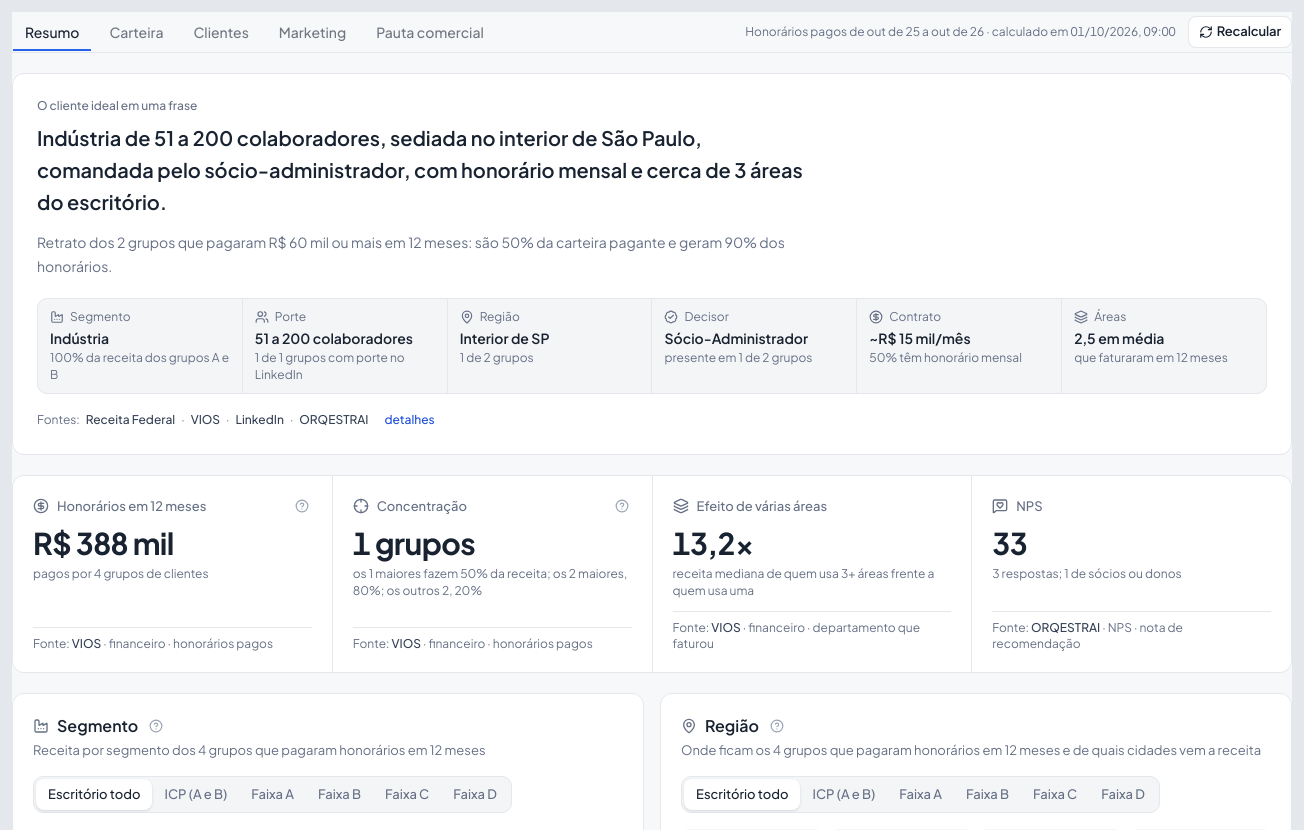
Scenario: mostra o erro devolvido pela API ao recalcular
Click the button "Recalcular": (1240, 32) [1188, 16, 1292, 48]
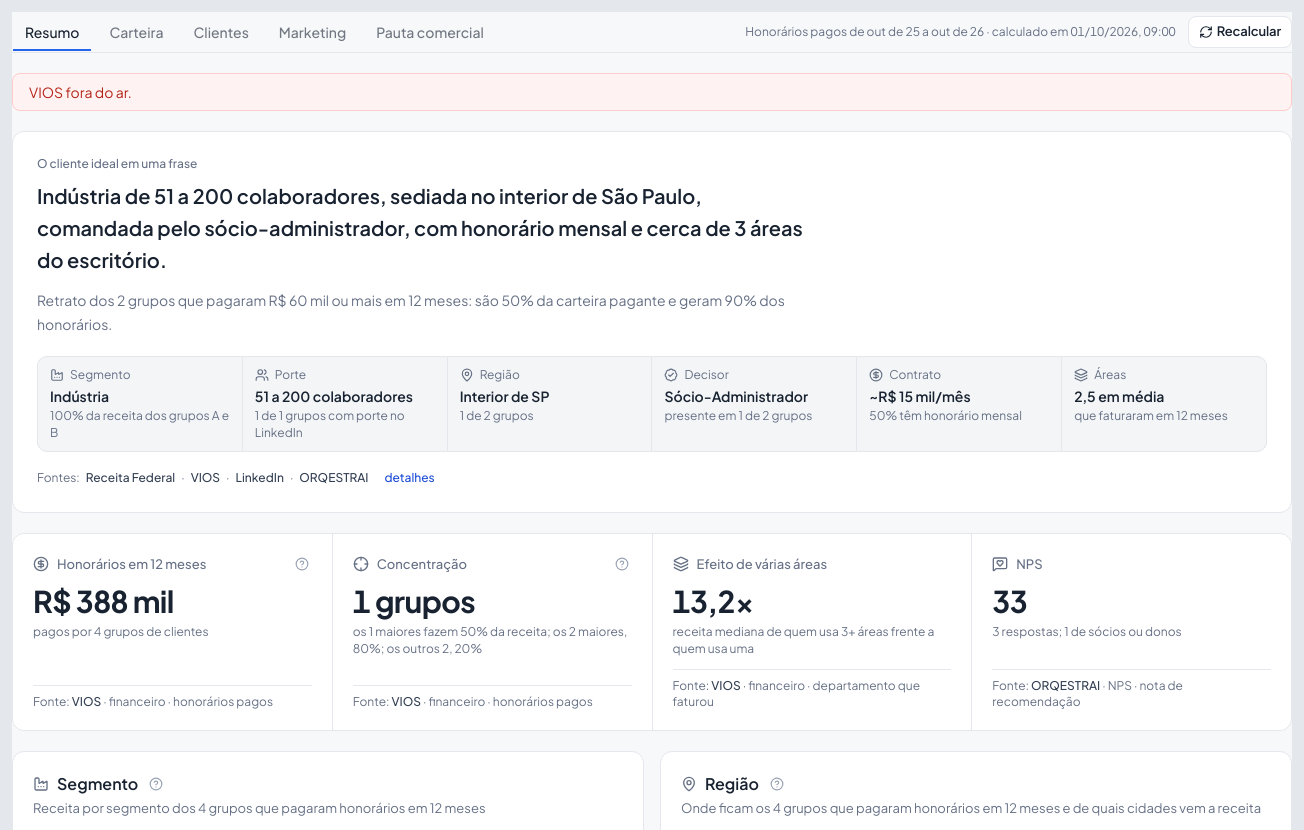
Result: the message reads "VIOS fora do ar." at [29, 83, 132, 101]
